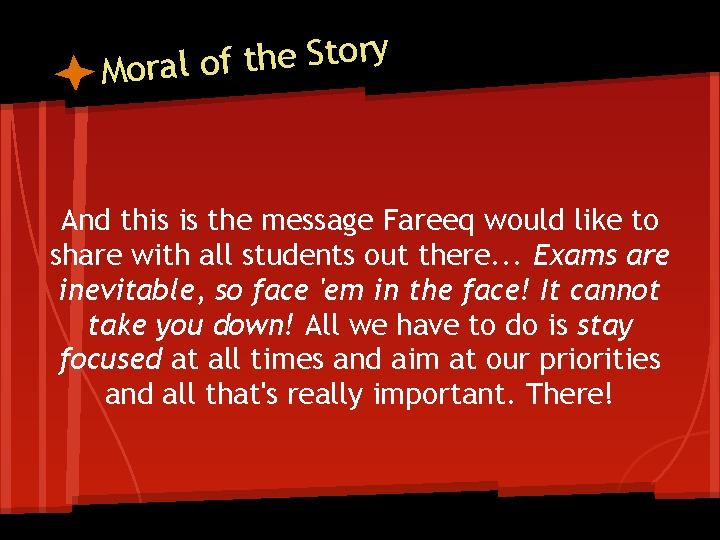paragraph: (33, 184, 685, 436)
title: (50, 19, 411, 101)
